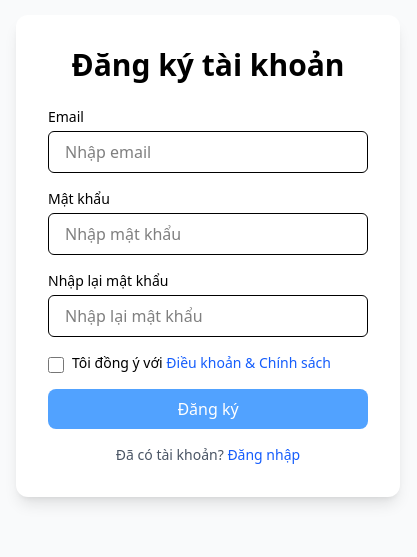
Test: hiển thị lỗi khi mật khẩu không đủ mạnh hoặc confirm không khớp
The width and height of the screenshot is (417, 557).
In the field labelled "Email": coordinates (208, 152) [48,131,368,173], type "valid@example.com"
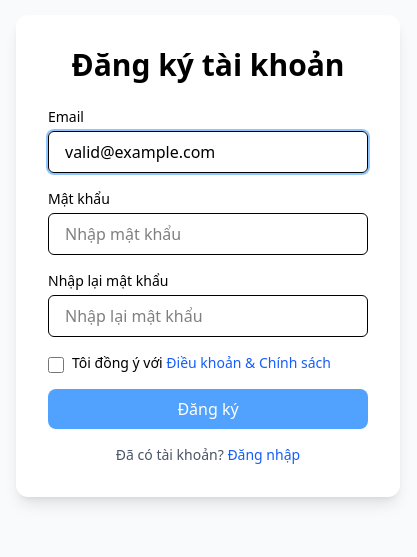
In the password field labelled "Mật khẩu": coordinates (208, 234) [48,213,368,255], type "weak"
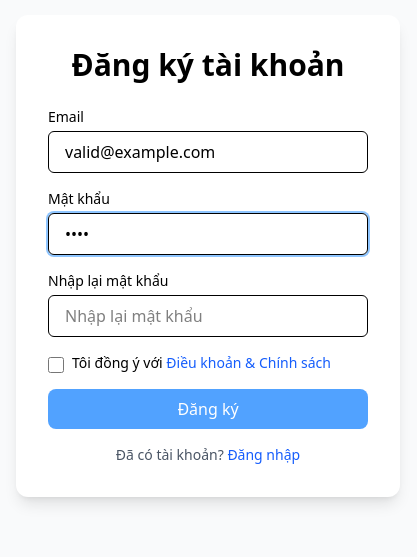
In the password field labelled "Nhập lại mật khẩu": coordinates (208, 316) [48,295,368,337], type "different"
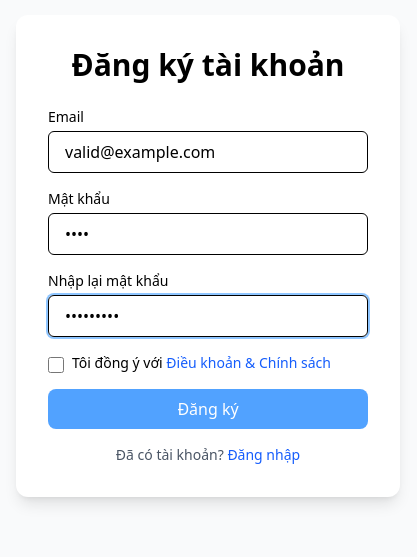
Click the checkbox labelled "Tôi đồng ý với Điều khoản & Chính sách": coordinates (56, 365) [48,357,64,373]
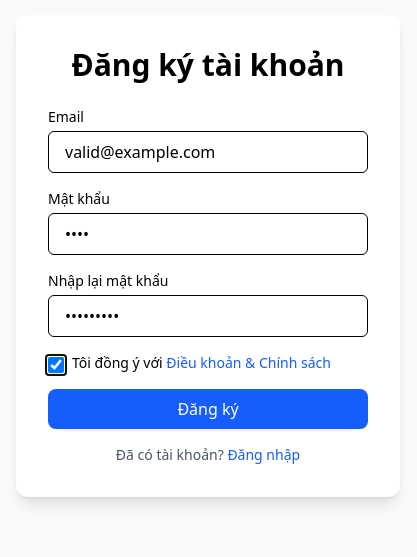
Click the button "Đăng ký": coordinates (208, 409) [48,389,368,429]
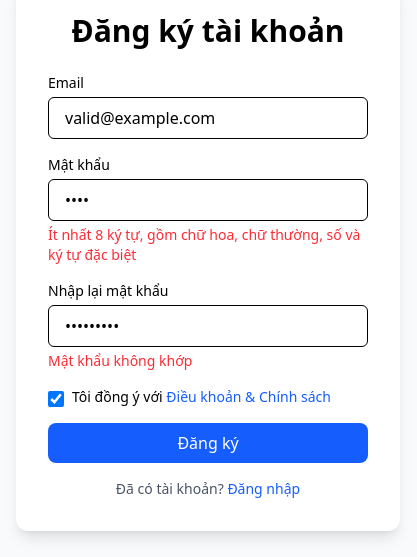
Now the text "Ít nhất 8 ký tự" is shown, box [48,225,360,264]
Now the text "Mật khẩu không khớp" is shown, box [48,351,192,370]
